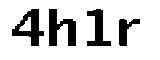1: (84, 6, 114, 50)
4: (8, 5, 46, 49)
h: (47, 3, 80, 50)
r: (116, 15, 145, 50)
